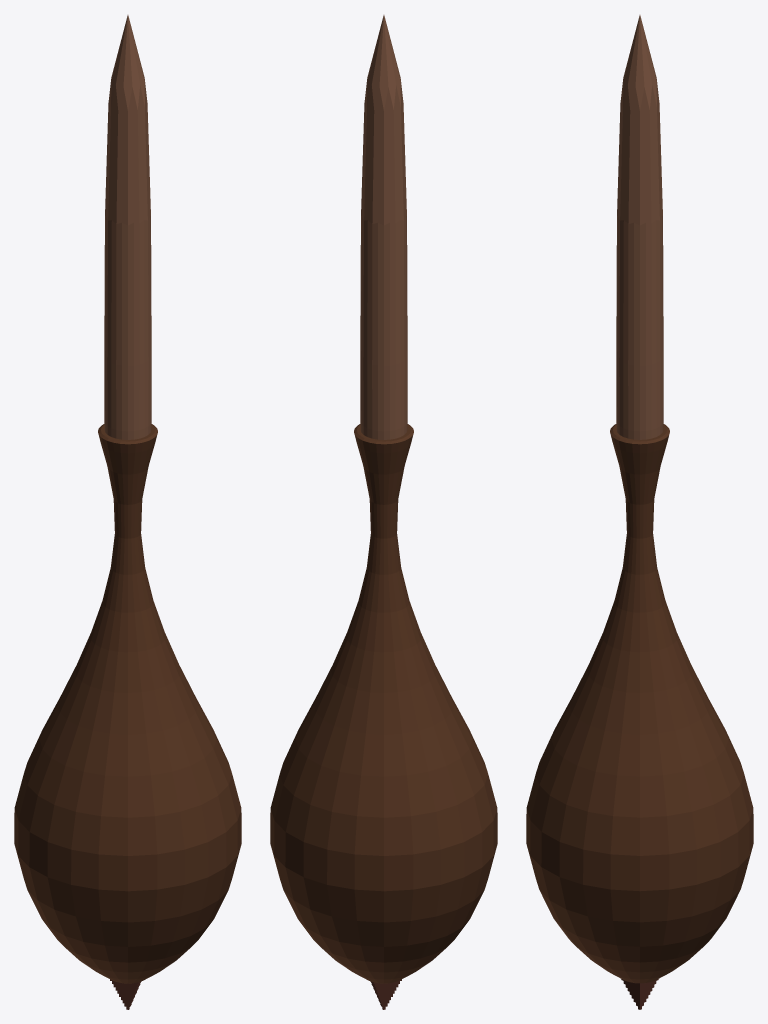
Rendered from Wand 904.glb.
3 views of the same model, side by side, from view 1: azimuth 30°, elevation 25°; view 2: azimuth 150°, elevation 25°; view 3: azimuth 270°, elevation 25° (orthographic).
Parts seen in each view (by area): view 1: GeneratedWand; view 2: GeneratedWand; view 3: GeneratedWand.
Part boxes in pixels (left/top/right/bottom): GeneratedWand: left=14, top=15, right=241, bottom=1009; GeneratedWand: left=270, top=15, right=497, bottom=1009; GeneratedWand: left=526, top=15, right=753, bottom=1009.
Size of the model in its own units: 0.1026 by 0.495 by 0.1026.
